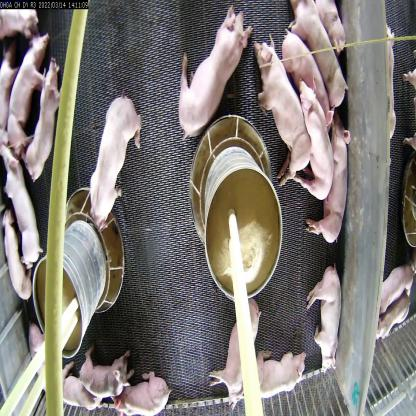Pig: (82, 90, 146, 228), (182, 7, 251, 129), (254, 43, 311, 184), (290, 0, 351, 112), (0, 146, 50, 262), (5, 38, 49, 158), (311, 115, 352, 243), (294, 69, 332, 202), (212, 293, 261, 394), (24, 62, 65, 180), (241, 342, 309, 407), (306, 264, 344, 369), (0, 207, 36, 310), (78, 348, 138, 407), (113, 365, 178, 415)
